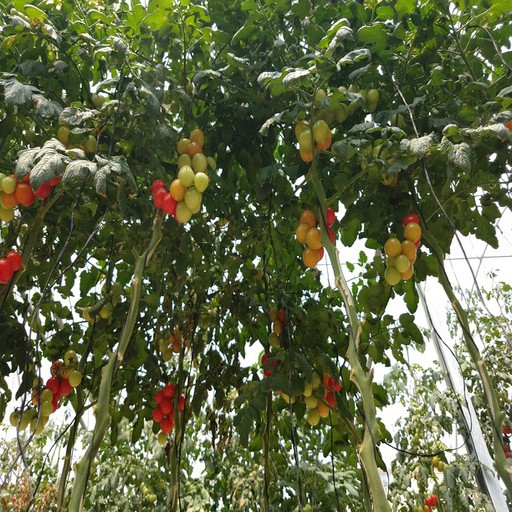green tomato bunch: (312, 81, 380, 123), (83, 282, 123, 323)
mixed tomato bunch: (1, 120, 98, 224), (152, 125, 213, 225), (11, 350, 81, 434), (382, 213, 424, 284), (262, 303, 293, 392), (291, 205, 335, 266), (296, 370, 342, 426), (157, 316, 192, 362), (296, 120, 330, 162)
red tomato bunch: (150, 381, 186, 435), (1, 250, 22, 285)
